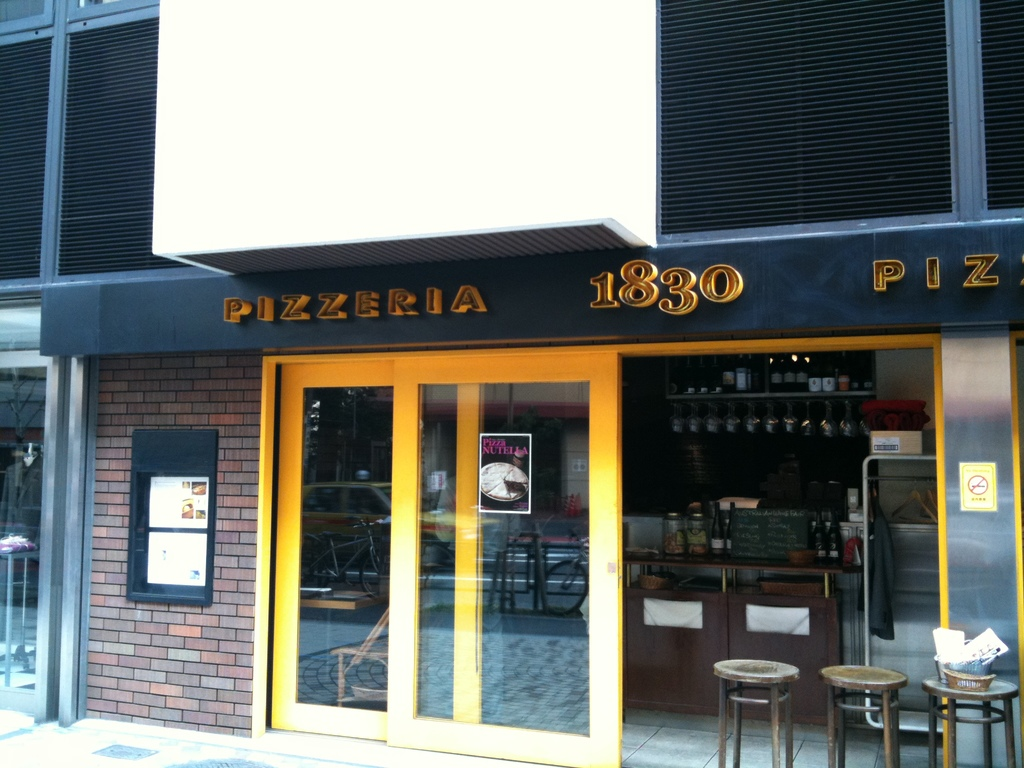Door: (262, 314, 648, 734), (0, 348, 47, 723)
